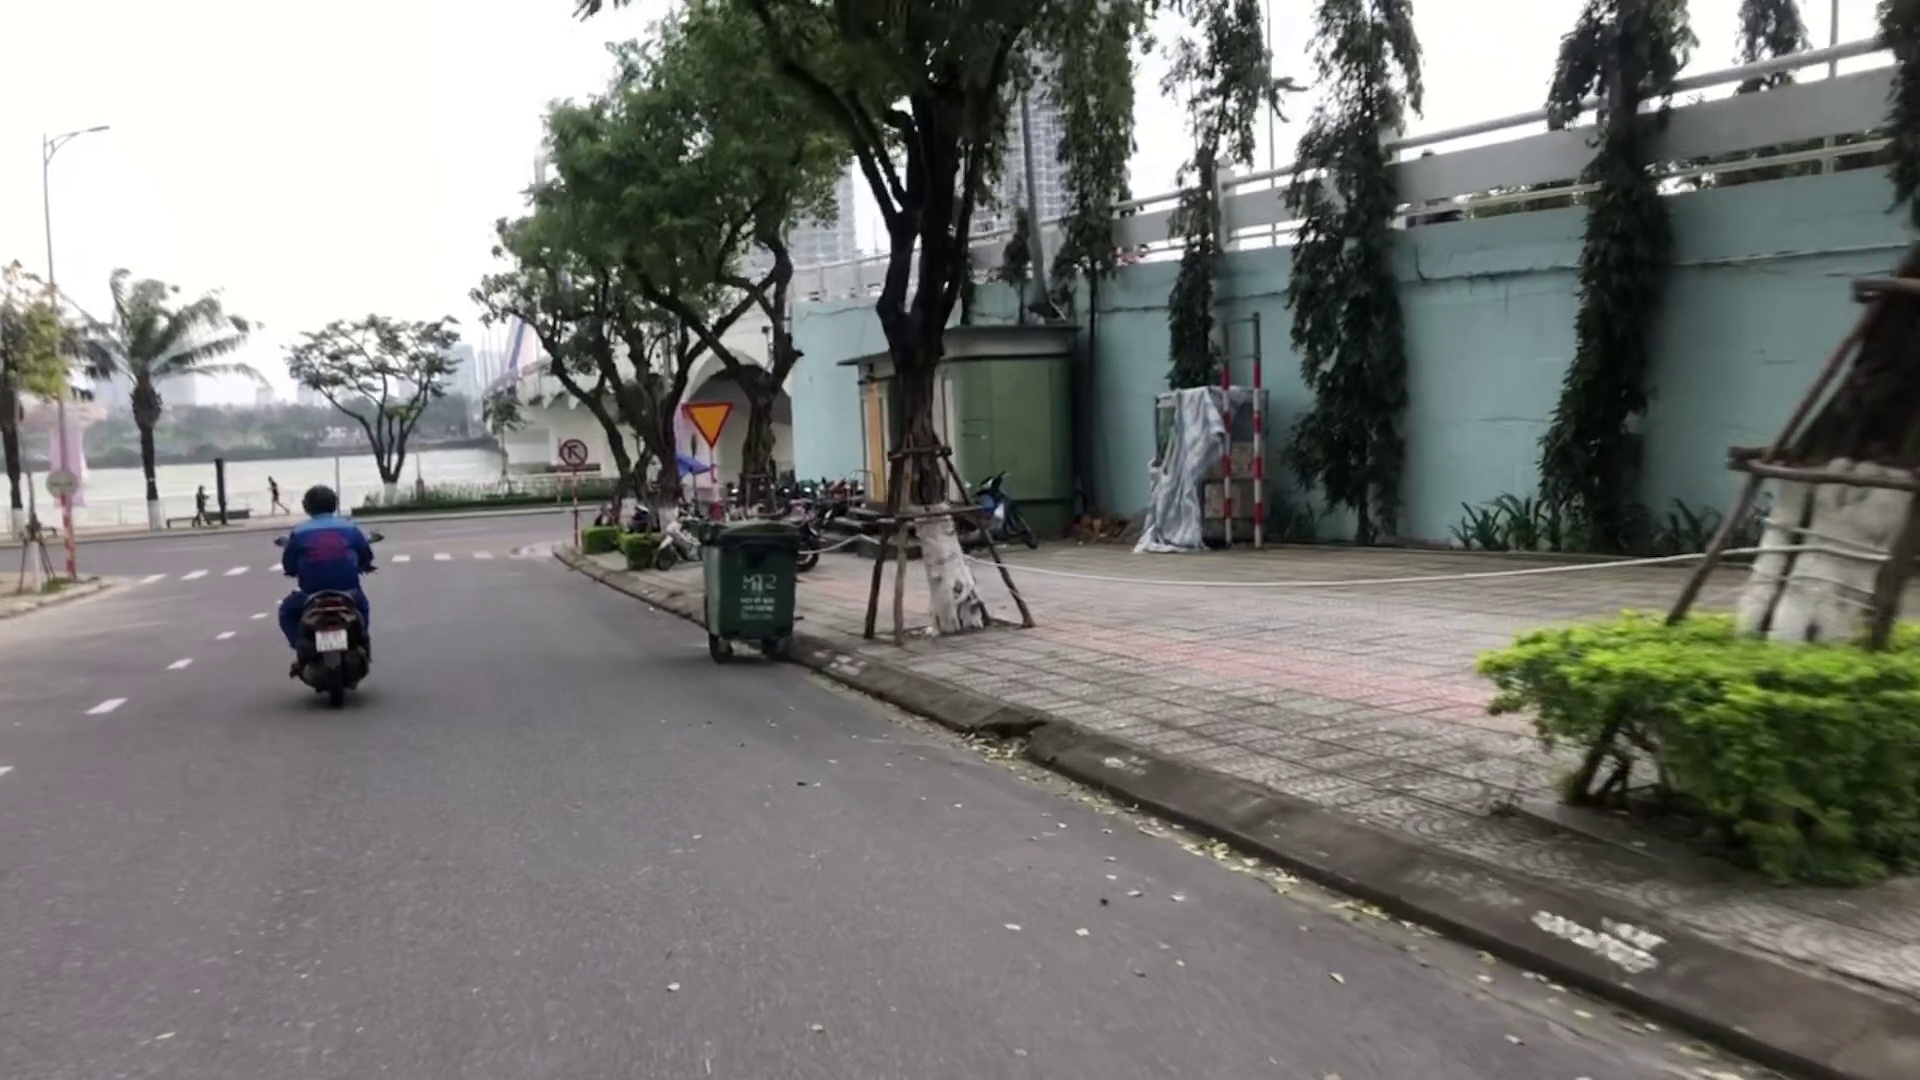Bien khac: (683, 400, 732, 451), (558, 436, 589, 464)
